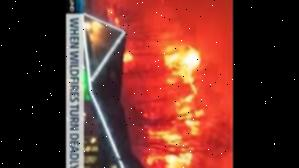fire: (134, 23, 213, 168)
